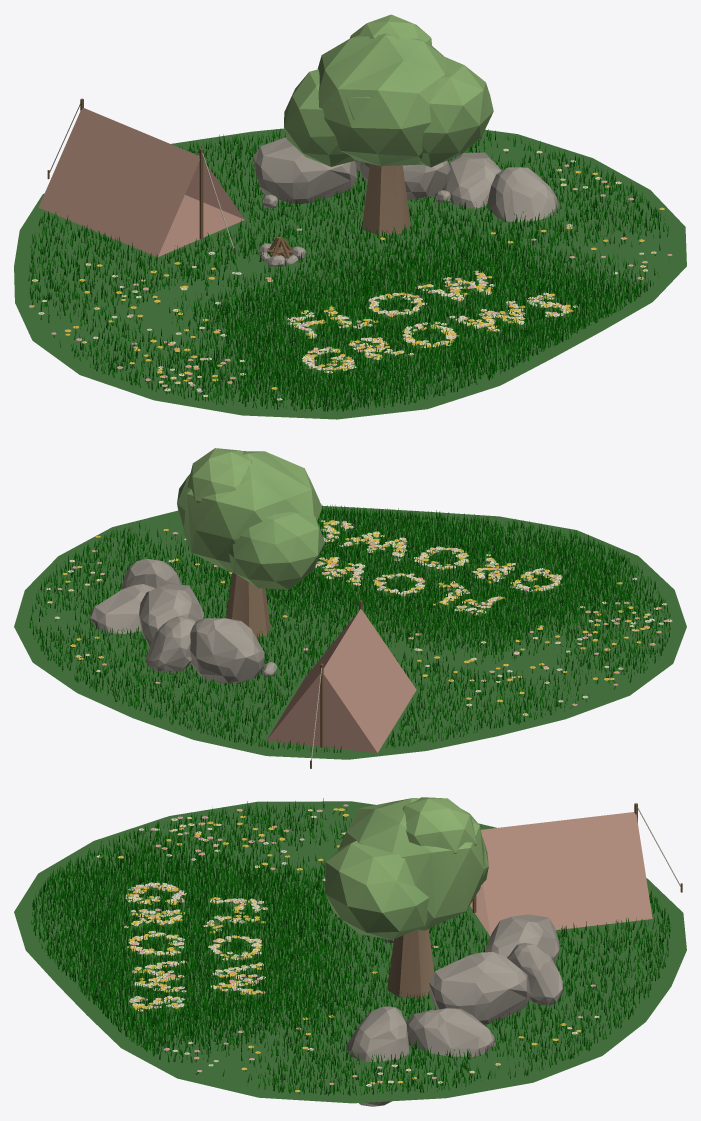
The model's file is Isle Origintree.glb.
The picture shows the model from 3 angles, top to bottom: view 1: azimuth 30°, elevation 25°; view 2: azimuth 150°, elevation 25°; view 3: azimuth 270°, elevation 25°; orthographic projection. The views are drawn at different scales.
Visible parts, largest first — view 1: HexTile_Master, Grass_Island_FlowGrows, Tree_Deciduous_Master, Tent_Body, Flowers_Text_FlowGrows, Rock_Master.006, Flowers_Scatter_OriginTile, Rock_Master.008, Rock_Master.001, Rock_Master.003; view 2: HexTile_Master, Grass_Island_FlowGrows, Tree_Deciduous_Master, Tent_Body, Flowers_Text_FlowGrows, Rock_Master.006, Flowers_Scatter_OriginTile, Rock_Master.003, Rock_Master.004, Rock_Master.001, Rock_Master.008; view 3: HexTile_Master, Grass_Island_FlowGrows, Tree_Deciduous_Master, Tent_Body, Flowers_Text_FlowGrows, Rock_Master.003, Rock_Master.001, Rock_Master.008, Flowers_Scatter_OriginTile, Rock_Master.006, Rock_Master.004.
Part boxes in pixels (left/top/right/bottom): HexTile_Master: left=14, top=128, right=686, bottom=419; Grass_Island_FlowGrows: left=28, top=129, right=668, bottom=411; Tree_Deciduous_Master: left=284, top=14, right=493, bottom=235; Tent_Body: left=38, top=108, right=244, bottom=256; Flowers_Text_FlowGrows: left=287, top=270, right=577, bottom=374; Rock_Master.006: left=253, top=137, right=356, bottom=203; Flowers_Scatter_OriginTile: left=29, top=148, right=672, bottom=402; Rock_Master.008: left=487, top=167, right=558, bottom=221; Rock_Master.001: left=443, top=152, right=501, bottom=208; Rock_Master.003: left=360, top=160, right=450, bottom=199; HexTile_Master: left=14, top=506, right=686, bottom=759; Grass_Island_FlowGrows: left=29, top=505, right=670, bottom=752; Tree_Deciduous_Master: left=177, top=448, right=324, bottom=637; Tent_Body: left=266, top=609, right=416, bottom=752; Flowers_Text_FlowGrows: left=313, top=520, right=562, bottom=615; Rock_Master.006: left=190, top=618, right=264, bottom=682; Flowers_Scatter_OriginTile: left=46, top=523, right=672, bottom=719; Rock_Master.003: left=139, top=584, right=203, bottom=647; Rock_Master.004: left=145, top=616, right=195, bottom=672; Rock_Master.001: left=90, top=584, right=155, bottom=633; Rock_Master.008: left=121, top=558, right=181, bottom=589; HexTile_Master: left=14, top=801, right=686, bottom=1103; Grass_Island_FlowGrows: left=31, top=798, right=671, bottom=1095; Tree_Deciduous_Master: left=325, top=797, right=488, bottom=998; Tent_Body: left=470, top=812, right=652, bottom=936; Flowers_Text_FlowGrows: left=124, top=882, right=267, bottom=1013; Rock_Master.003: left=429, top=952, right=530, bottom=1024; Rock_Master.001: left=405, top=1008, right=495, bottom=1056; Rock_Master.008: left=346, top=1006, right=409, bottom=1106; Flowers_Scatter_OriginTile: left=96, top=804, right=599, bottom=1093; Rock_Master.006: left=486, top=914, right=559, bottom=963; Rock_Master.004: left=506, top=942, right=563, bottom=1005.
Bounding box in the file's own units: 8.31 × 3.22 × 7.83.
